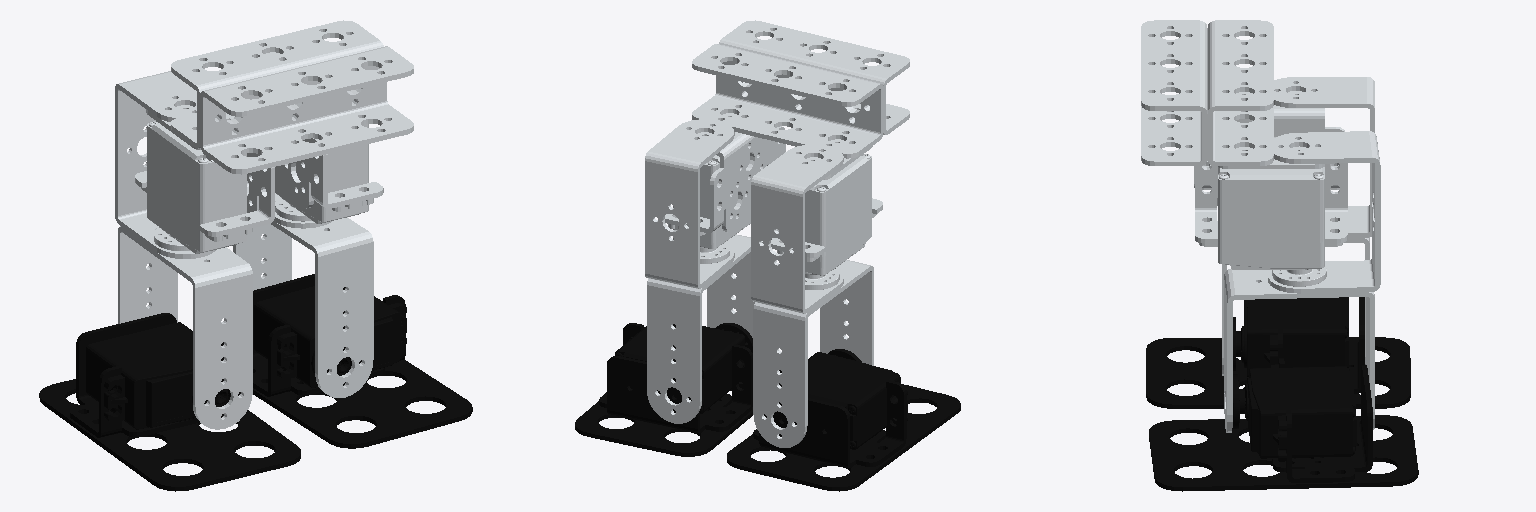
robot.urdf — walker_assembly:
<?xml version="1.0" encoding="utf-8"?>
<!-- This URDF was automatically created by SolidWorks to URDF Exporter! Originally created by [author] ([email redacted])
     Commit Version: 1.6.0-4-g7f85cfe  Build Version: 1.6.7995.38578
     For more information, please see http://wiki.ros.org/sw_urdf_exporter -->
<robot
  name="walker_assembly">
  <link
    name="base_link">
    <inertial>
      <origin
        xyz="-0.00028313 0.029706 -0.035079"
        rpy="0 0 0" />
      <mass
        value="0.14933" />
      <inertia
        ixx="4.0229E-05"
        ixy="-1.2116E-11"
        ixz="2.4938E-11"
        iyy="4.9381E-05"
        iyz="2.8162E-07"
        izz="5.1205E-05" />
    </inertial>
    <visual>
      <origin
        xyz="0 0 0"
        rpy="0 0 0" />
      <geometry>
        <mesh
          filename="meshes/base_link.STL" />
      </geometry>
      <material
        name="">
        <color
          rgba="0.89412 0.91373 0.92941 1" />
      </material>
    </visual>
    <collision>
      <origin
        xyz="0 0 0"
        rpy="0 0 0" />
      <geometry>
        <mesh
          filename="meshes/base_link.STL" />
      </geometry>
    </collision>
  </link>
  <link
    name="hipA">
    <inertial>
      <origin
        xyz="-0.00065839 0.0066104 0.0024618"
        rpy="0 0 0" />
      <mass
        value="0.03832" />
      <inertia
        ixx="3.1302E-05"
        ixy="2.5158E-08"
        ixz="4.4264E-21"
        iyy="1.8239E-05"
        iyz="-1.6484E-21"
        izz="1.6784E-05" />
    </inertial>
    <visual>
      <origin
        xyz="0 0 0"
        rpy="0 0 0" />
      <geometry>
        <mesh
          filename="meshes/hipA.STL" />
      </geometry>
      <material
        name="">
        <color
          rgba="0.89412 0.91373 0.92941 1" />
      </material>
    </visual>
    <collision>
      <origin
        xyz="0 0 0"
        rpy="0 0 0" />
      <geometry>
        <mesh
          filename="meshes/hipA.STL" />
      </geometry>
    </collision>
  </link>
  <joint
    name="hip_a"
    type="revolute">
    <origin
      xyz="-0.0247155567804533 0.048468896527569 -0.0809999999999931"
      rpy="0 0 0" />
    <parent
      link="base_link" />
    <child
      link="hipA" />
    <axis
      xyz="0 0 1" />
    <limit
      lower="-3"
      upper="3"
      effort="10"
      velocity="10" />
  </joint>
  <link
    name="footA">
    <inertial>
      <origin
        xyz="-0.032552 0.015574 -0.0049319"
        rpy="0 0 0" />
      <mass
        value="0.058051" />
      <inertia
        ixx="1.6057E-05"
        ixy="1.4647E-07"
        ixz="1.0225E-09"
        iyy="1.3652E-05"
        iyz="-5.3564E-07"
        izz="2.528E-05" />
    </inertial>
    <visual>
      <origin
        xyz="0 0 0"
        rpy="0 0 0" />
      <geometry>
        <mesh
          filename="meshes/footA.STL" />
      </geometry>
      <material
        name="">
        <color
          rgba="0.082353 0.082353 0.082353 1" />
      </material>
    </visual>
    <collision>
      <origin
        xyz="0 0 0"
        rpy="0 0 0" />
      <geometry>
        <mesh
          filename="meshes/footA.STL" />
      </geometry>
    </collision>
  </link>
  <joint
    name="foot_a"
    type="revolute">
    <origin
      xyz="0.0218049273648607 -0.0145257918813619 -0.0480205336113101"
      rpy="0 0 0" />
    <parent
      link="hipA" />
    <child
      link="footA" />
    <axis
      xyz="0.00192582073503568 -0.999998145605529 0" />
    <limit
      lower="-3"
      upper="3"
      effort="10"
      velocity="10" />
  </joint>
  <link
    name="hipB">
    <inertial>
      <origin
        xyz="-0.00042934 0.0076229 0.0024618"
        rpy="0 0 0" />
      <mass
        value="0.03832" />
      <inertia
        ixx="3.1261E-05"
        ixy="7.3346E-07"
        ixz="-2.3595E-21"
        iyy="1.828E-05"
        iyz="-3.6697E-21"
        izz="1.6784E-05" />
    </inertial>
    <visual>
      <origin
        xyz="0 0 0"
        rpy="0 0 0" />
      <geometry>
        <mesh
          filename="meshes/hipB.STL" />
      </geometry>
      <material
        name="">
        <color
          rgba="0.89412 0.91373 0.92941 1" />
      </material>
    </visual>
    <collision>
      <origin
        xyz="0 0 0"
        rpy="0 0 0" />
      <geometry>
        <mesh
          filename="meshes/hipB.STL" />
      </geometry>
    </collision>
  </link>
  <joint
    name="hip_b"
    type="revolute">
    <origin
      xyz="0.0246838741462257 0.0487666283212033 -0.0810000000000223"
      rpy="0 0 0" />
    <parent
      link="base_link" />
    <child
      link="hipB" />
    <axis
      xyz="0 0 1" />
    <limit
      lower="-3"
      upper="3"
      effort="10"
      velocity="10" />
  </joint>
  <link
    name="footB">
    <inertial>
      <origin
        xyz="0.00864469276359951 0.02883967419004 -0.00520636014884891"
        rpy="0 0 0" />
      <mass
        value="0.0580510112590539" />
      <inertia
        ixx="1.60655922884674E-05"
        ixy="-3.78189030512878E-09"
        ixz="3.01135932722698E-08"
        iyy="1.36429963781113E-05"
        iyz="-5.34820537708287E-07"
        izz="2.52802462534402E-05" />
    </inertial>
    <visual>
      <origin
        xyz="0 0 0"
        rpy="0 0 0" />
      <geometry>
        <mesh
          filename="meshes/footB.STL" />
      </geometry>
      <material
        name="">
        <color
          rgba="0.0823529411764706 0.0823529411764706 0.0823529411764706 1" />
      </material>
    </visual>
    <collision>
      <origin
        xyz="0 0 0"
        rpy="0 0 0" />
      <geometry>
        <mesh
          filename="meshes/footB.STL" />
      </geometry>
    </collision>
  </link>
  <joint
    name="foot_b"
    type="revolute">
    <origin
      xyz="0.00183571654405214 -0.0261381309858644 -0.0479322565024039"
      rpy="0 0 0" />
    <parent
      link="hipB" />
    <child
      link="footB" />
    <axis
      xyz="0.0562336511609792 -0.998417636301115 0" />
    <limit
      lower="-3"
      upper="3"
      effort="10"
      velocity="10" />
  </joint>
</robot>

--- Render facts (derived) ---
Views: 3 orthographic renders of the robot side by side, from view 1: azimuth 30°, elevation 25°; view 2: azimuth 150°, elevation 25°; view 3: azimuth 270°, elevation 25°.
Robot: walker_assembly — 5 links, 4 joints (4 revolute); root link base_link; default pose: every joint at zero.
Links seen in each view (by area): view 1: base_link, footA, hipA, footB, hipB; view 2: base_link, hipA, hipB, footA, footB; view 3: base_link, footB, footA, hipB, hipA.
Link boxes in pixels (box(x1,y1,x2,y2)): base_link: box(135, 20, 413, 253); footA: box(39, 313, 300, 491); hipA: box(115, 71, 252, 429); footB: box(253, 274, 472, 448); hipB: box(233, 52, 373, 397); base_link: box(665, 20, 909, 275); hipA: box(751, 144, 873, 447); hipB: box(645, 119, 754, 423); footA: box(727, 349, 960, 491); footB: box(575, 323, 752, 456); base_link: box(1141, 20, 1347, 269); footB: box(1149, 358, 1418, 491); footA: box(1146, 297, 1410, 408); hipB: box(1224, 131, 1380, 432); hipA: box(1222, 77, 1374, 375).
Size in the robot's own frame: 0.1333 by 0.1049 by 0.1471 metres.
Meshes: 5 distinct files referenced, 5 mesh visuals loaded (5 binary STL).
